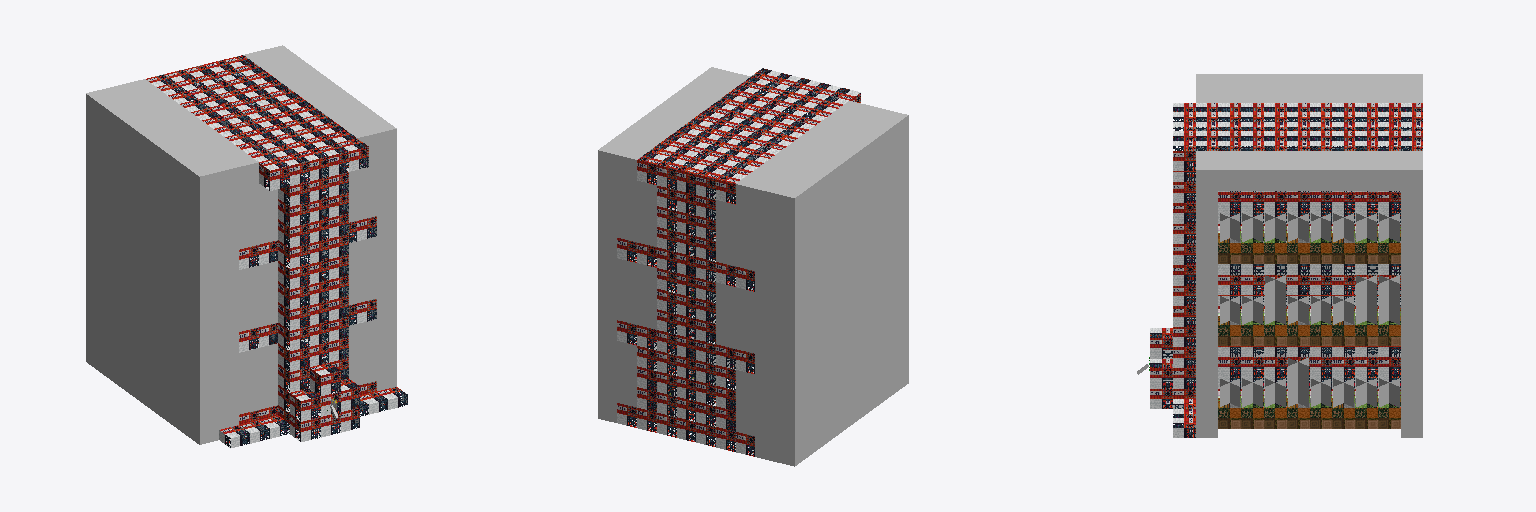
3 views of the same model, side by side, from view 1: azimuth 30°, elevation 25°; view 2: azimuth 150°, elevation 25°; view 3: azimuth 270°, elevation 25° (orthographic).
Parts seen in each view (by area): view 1: sugar-cane-farm.schematic__0_0_0_to_9_255_12; view 2: sugar-cane-farm.schematic__0_0_0_to_9_255_12; view 3: sugar-cane-farm.schematic__0_0_0_to_9_255_12.
Boxes of the visible parts, box(x1,y1,x2,y2) form: sugar-cane-farm.schematic__0_0_0_to_9_255_12: box(86, 45, 407, 448); sugar-cane-farm.schematic__0_0_0_to_9_255_12: box(598, 67, 908, 466); sugar-cane-farm.schematic__0_0_0_to_9_255_12: box(1137, 74, 1422, 437).
Size of the model in its own units: 0.7692 by 1 by 0.9692.
13 materials, 1 textured.